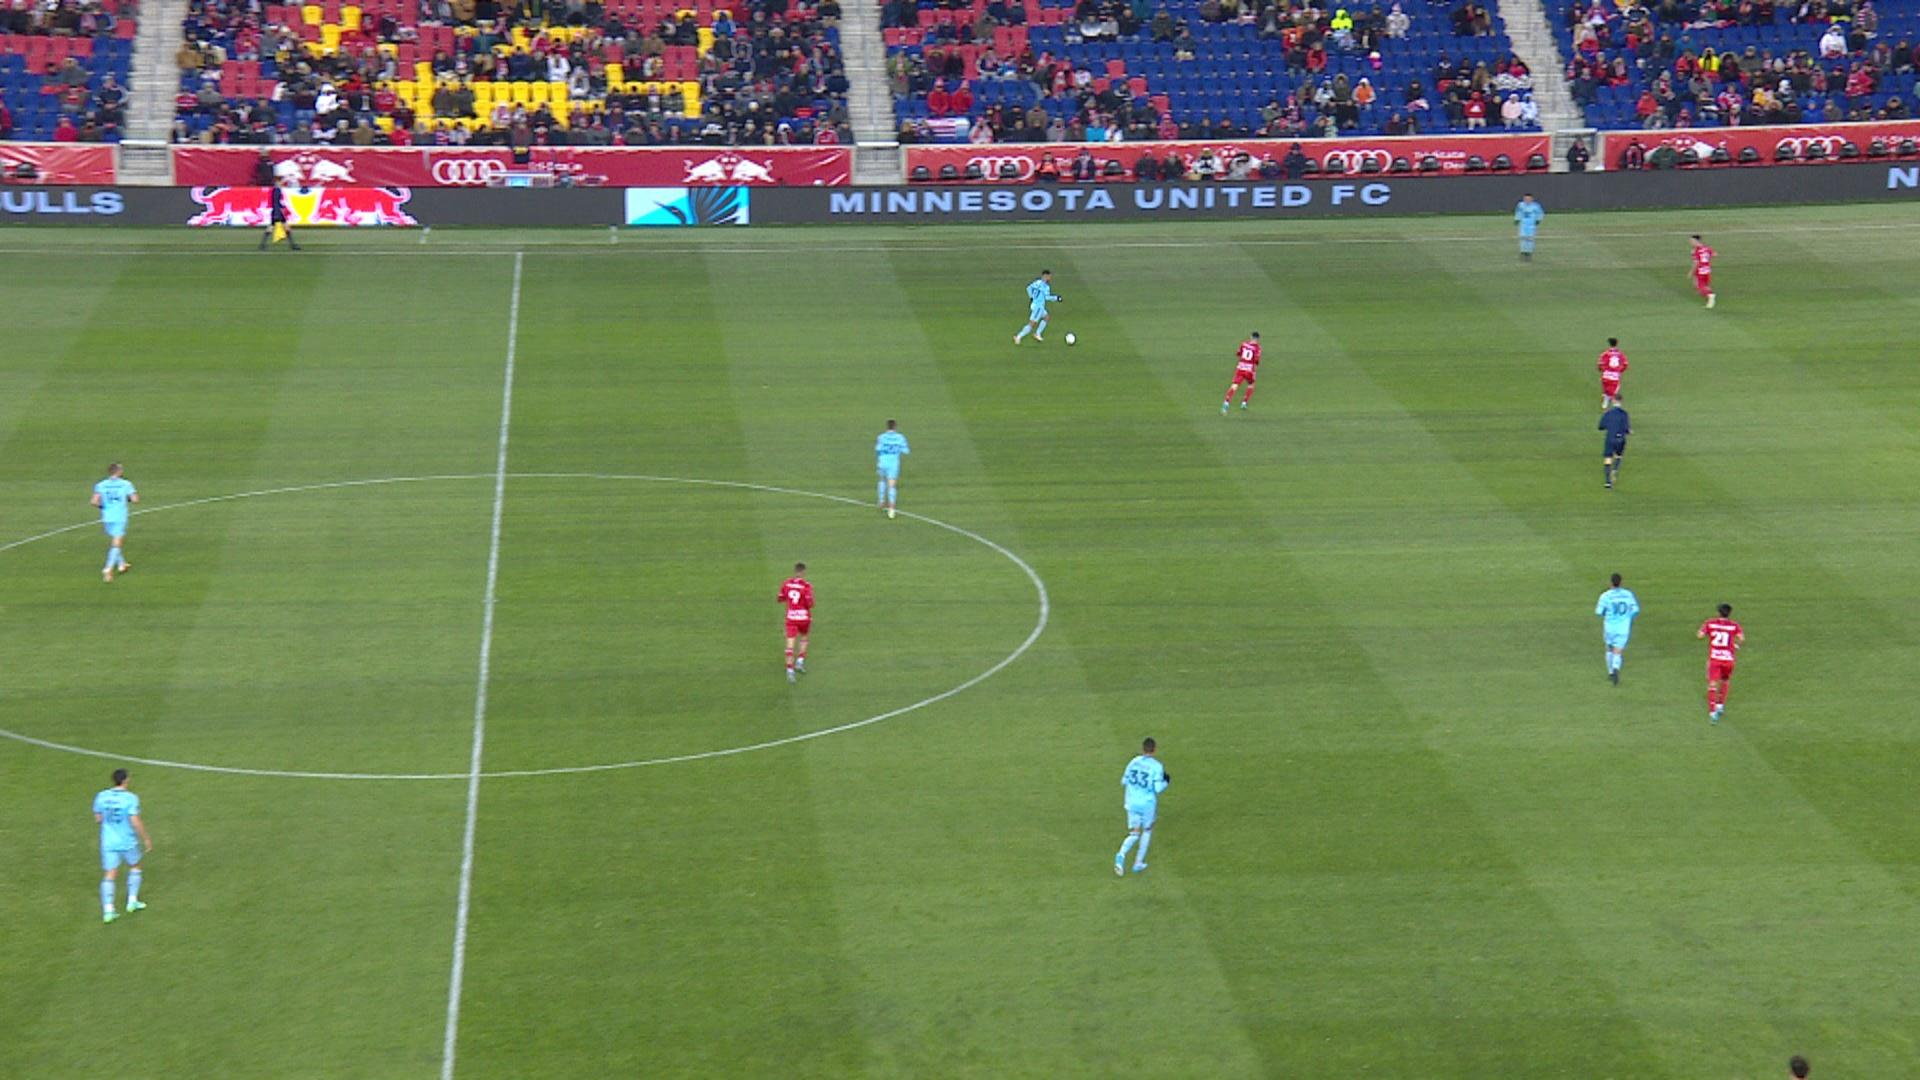football: (1064, 331, 1077, 346)
